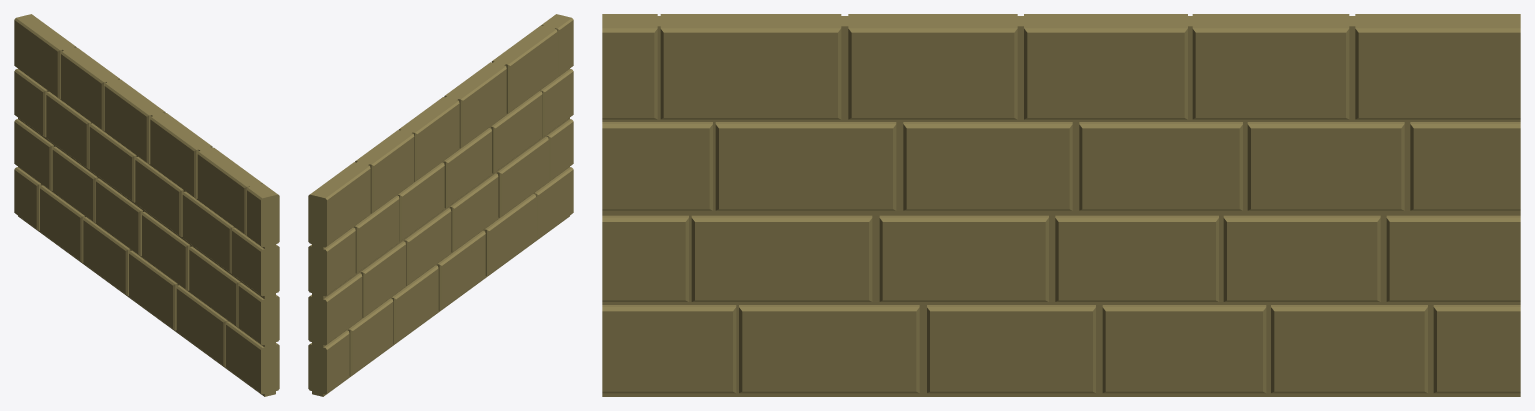
The model's file is Parede_Blocos.fbx.
The picture shows the model from 3 angles, left to right: view 1: azimuth 30°, elevation 25°; view 2: azimuth 150°, elevation 25°; view 3: azimuth 270°, elevation 25°; orthographic projection. The views are drawn at different scales.
Parts seen in each view (by area): view 1: Parede_Blocos; view 2: Parede_Blocos; view 3: Parede_Blocos.
Part boxes in pixels (x1,y1,x2,y2): Parede_Blocos: (14,14,279,396); Parede_Blocos: (308,14,573,396); Parede_Blocos: (602,14,1520,396).
Size of the model in its own units: 1.58 by 15.99 by 35.89.
